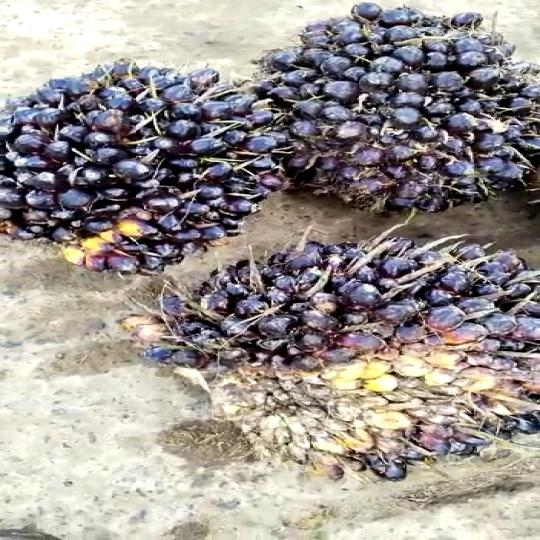mentah: (142, 241, 540, 500), (0, 58, 310, 294), (242, 0, 540, 213)
